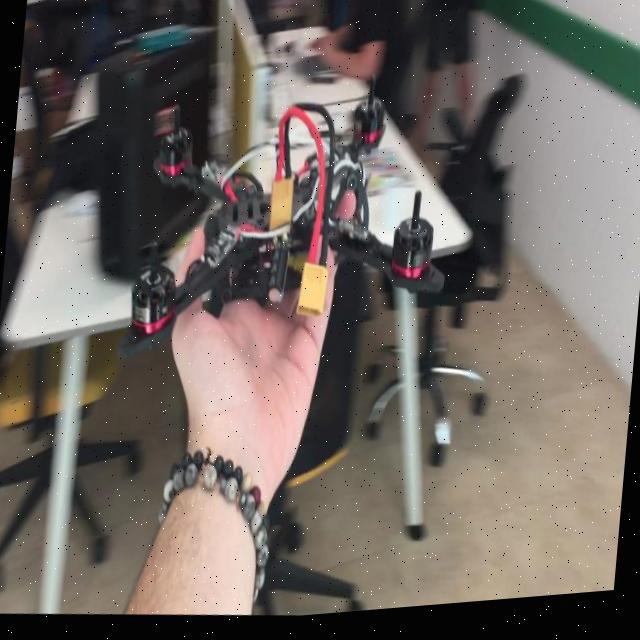drone: (114, 39, 466, 376)
